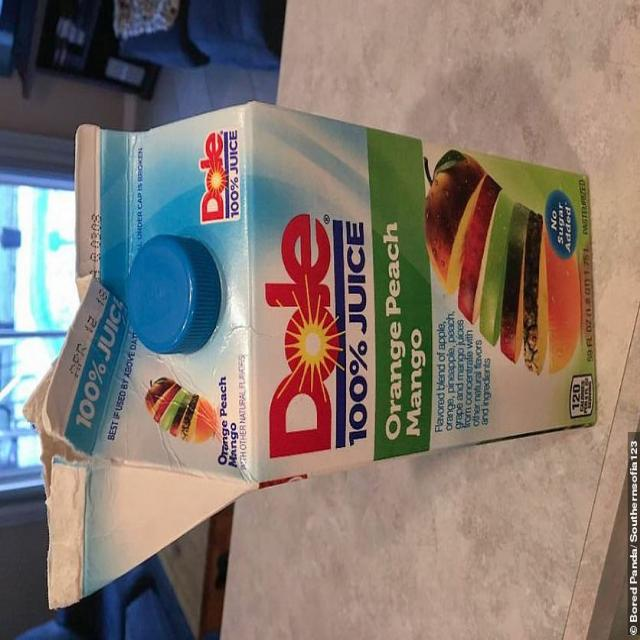non_white_jug: (58, 99, 597, 486)
